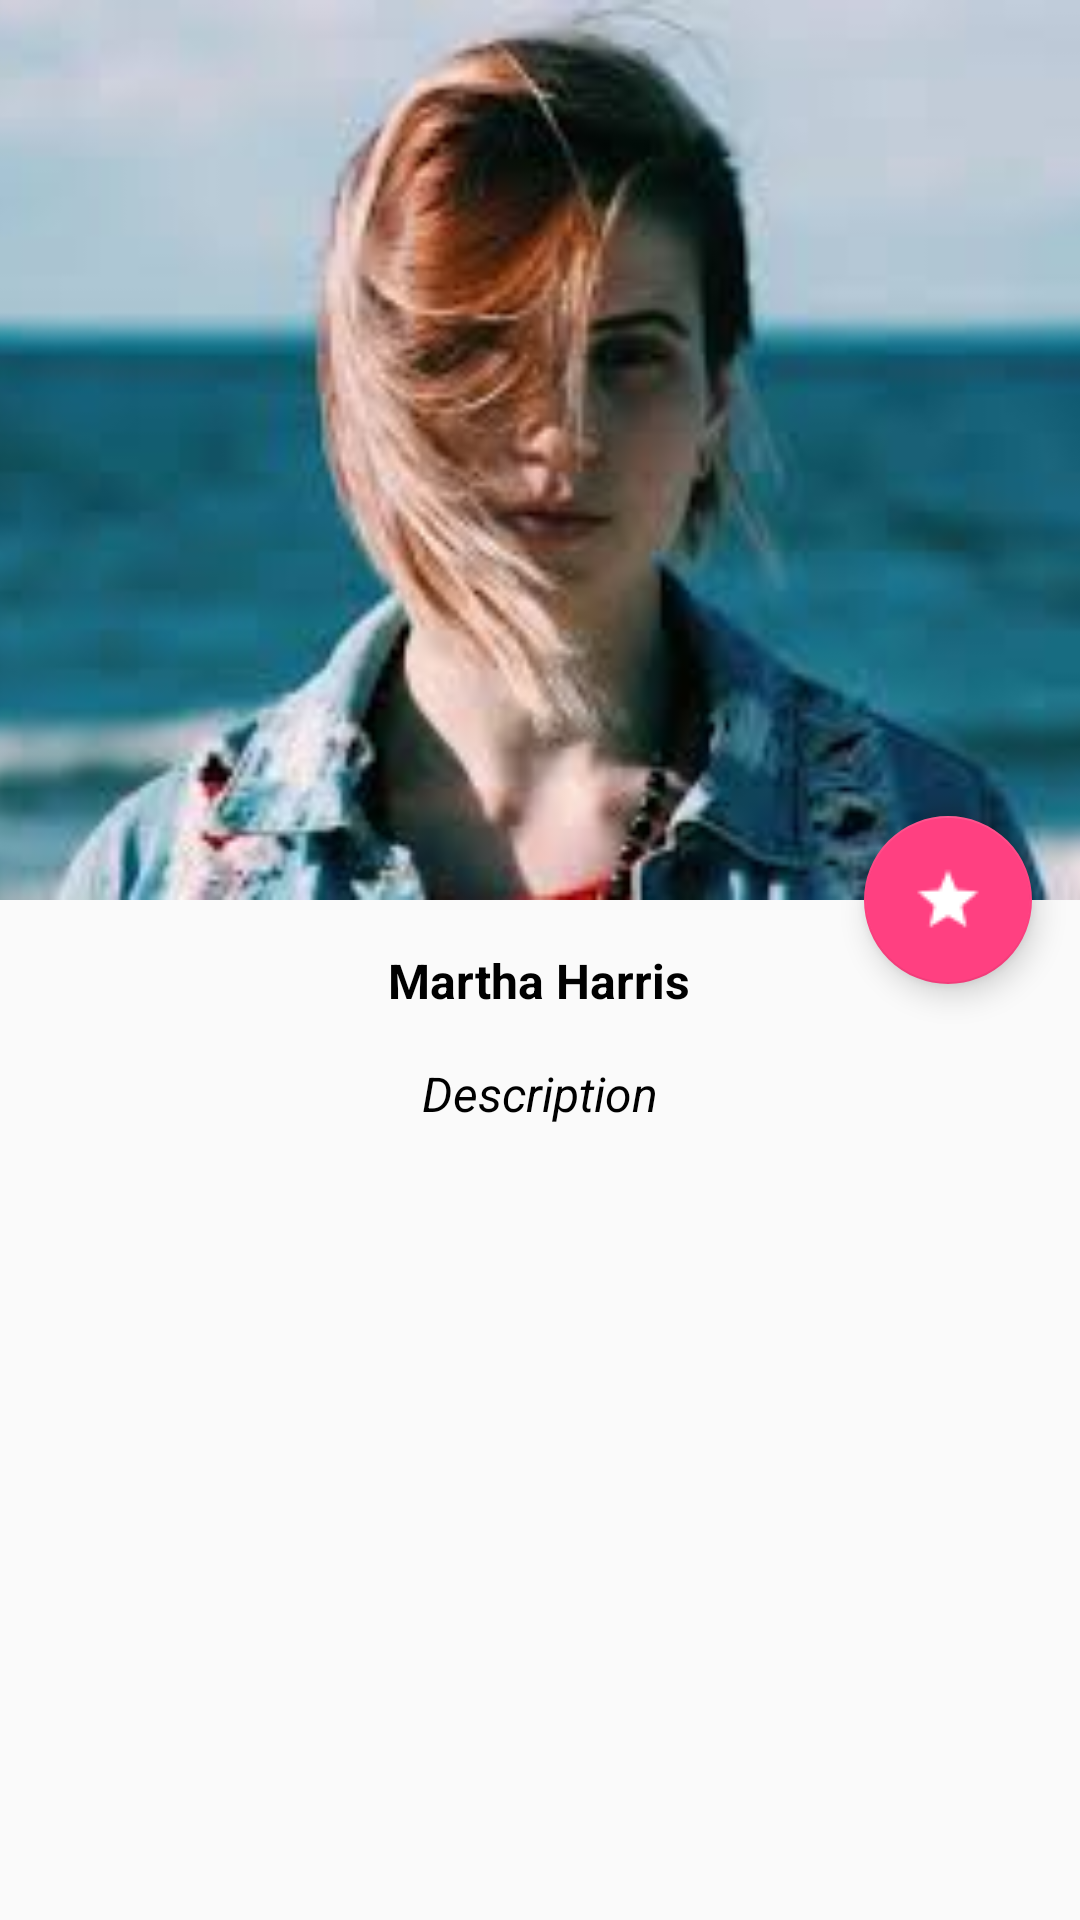

Named icons in this screenshot (1080*1920) and their centers, (x,y):
star: (948,900)
